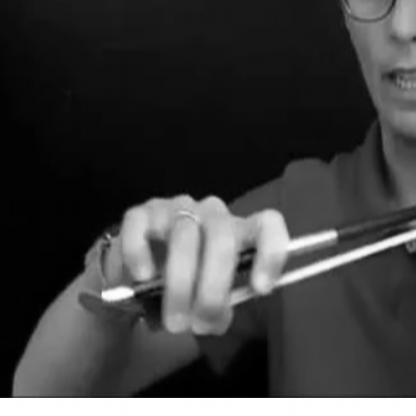good: (110, 156, 293, 345)
